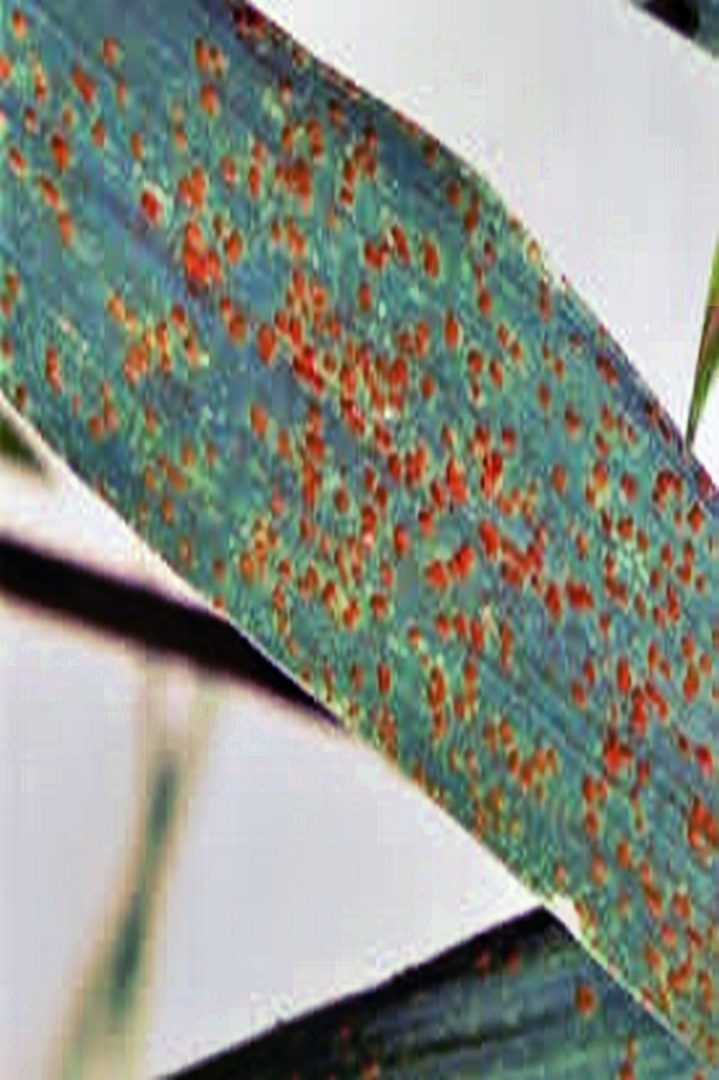Leaf Rust: (24, 84, 719, 882)
